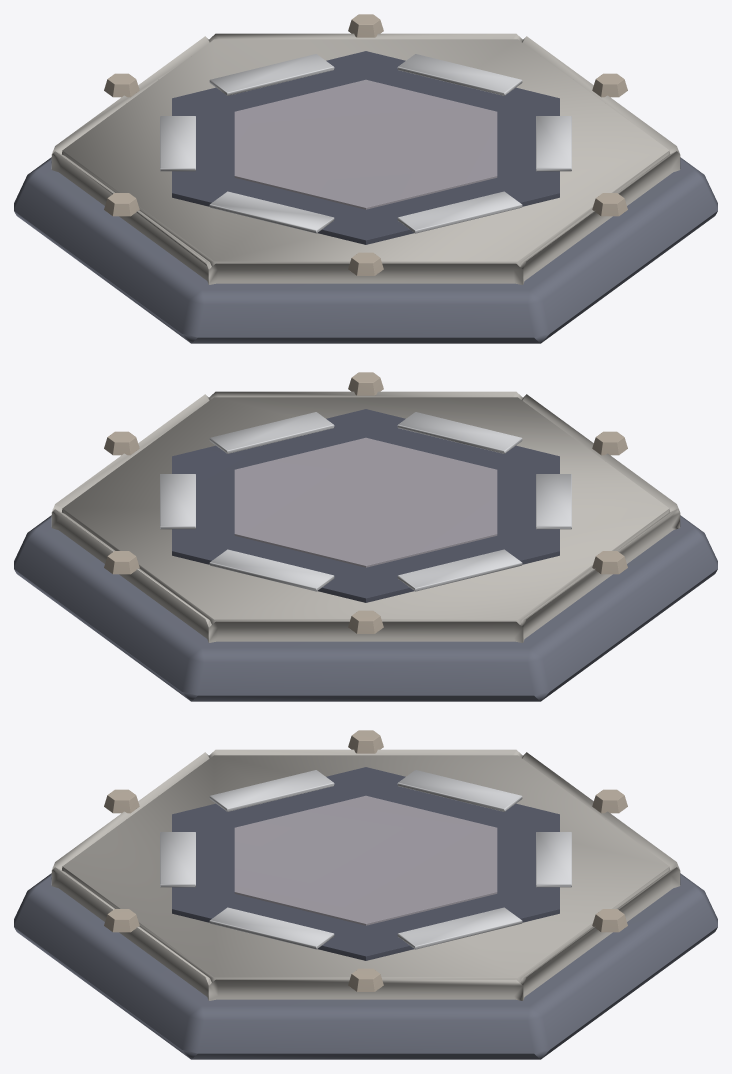
Rendered from garrison_socket.glb.
The picture shows the model from 3 angles, top to bottom: view 1: azimuth 30°, elevation 25°; view 2: azimuth 150°, elevation 25°; view 3: azimuth 270°, elevation 25°; orthographic projection.
Visible parts, largest first — view 1: main, ring; view 2: main, ring; view 3: main, ring.
Boxes of the visible parts, x1,y1,x2,y2 form: main: (14,14,717,343); ring: (160,54,571,233); main: (14,372,717,701); ring: (160,412,571,591); main: (14,730,717,1059); ring: (160,770,571,949).
Bounding box in the file's own units: 1.2 × 0.165 × 1.36.
